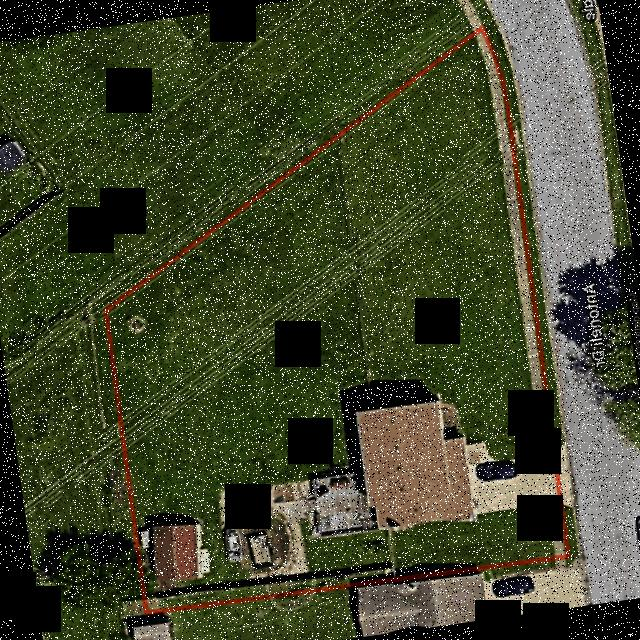Driveway: (464, 444, 557, 515)
Extra Driveway: (556, 440, 574, 509)
Extra Lawn: (484, 20, 562, 452), (561, 506, 579, 559)
House: (356, 401, 471, 531)
Other: (213, 471, 376, 579), (139, 523, 209, 590), (439, 310, 457, 329), (128, 316, 146, 333)
Sidewalk: (473, 30, 555, 454), (549, 505, 564, 554)
